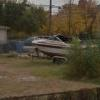Boat: (27, 30, 100, 68)
